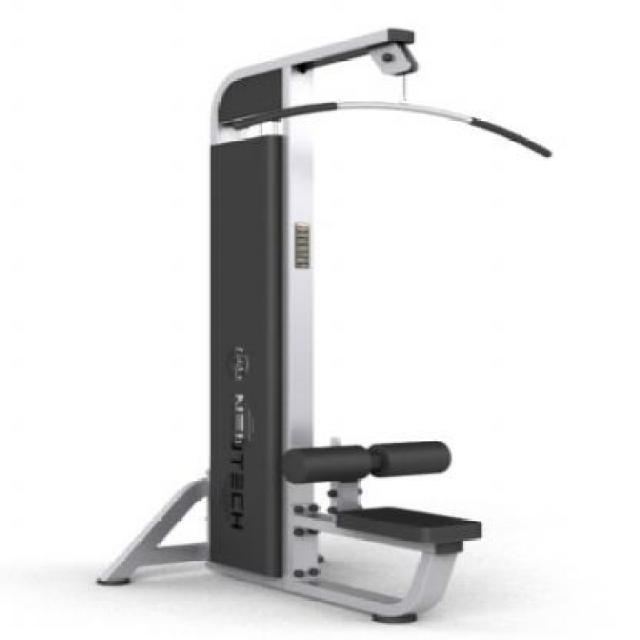Lat Pull Down: (78, 17, 584, 629)
